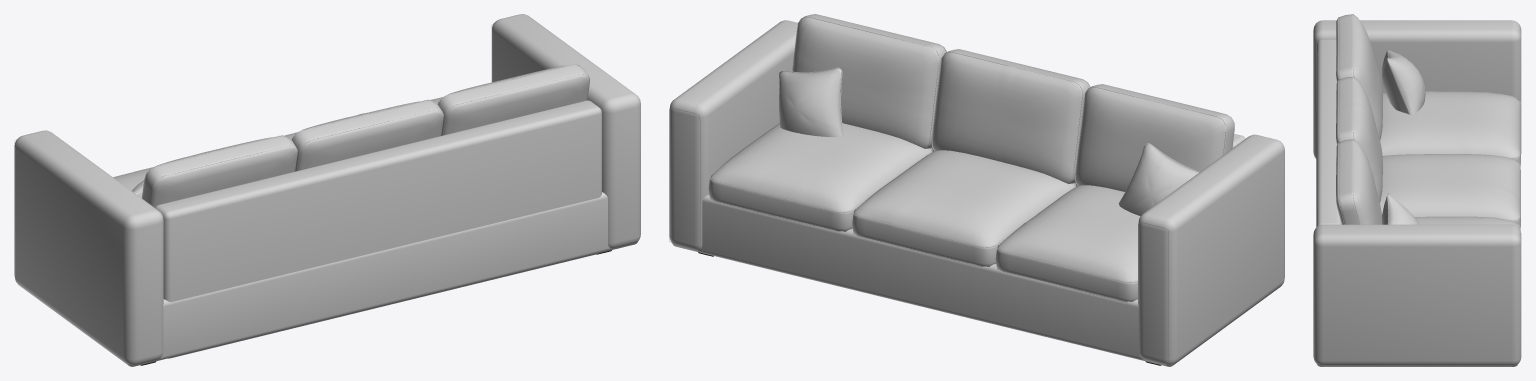
The model's file is sofa-classic-three.glb.
The picture shows the model from 3 angles, left to right: view 1: azimuth 30°, elevation 25°; view 2: azimuth 150°, elevation 25°; view 3: azimuth 270°, elevation 25°; orthographic projection. The views are drawn at different scales.
Visible parts, largest first — view 1: Structural back, Upholstered arm, Upholstered base, Upholstered arm.001, Back pillow 1, Back pillow 2, Back pillow 3; view 2: Upholstered arm, Upholstered base, Seat 2, Back pillow 2, Seat 3, Upholstered arm.001, Back pillow 3, Seat 1, Back pillow 1, Loose scatter pillow.001, Loose scatter pillow; view 3: Upholstered arm.001, Upholstered arm, Seat 2, Seat 1, Structural back, Back pillow 3, Back pillow 1, Back pillow 2, Loose scatter pillow, Seat 3, Loose scatter pillow.001, Upholstered base.
Part boxes in pixels (x1,y1,x2,y2): Structural back: (155, 100, 601, 358); Upholstered arm: (14, 130, 163, 365); Upholstered base: (18, 192, 638, 366); Upholstered arm.001: (492, 14, 640, 248); Back pillow 1: (142, 135, 297, 207); Back pillow 2: (292, 100, 443, 171); Back pillow 3: (438, 64, 589, 135); Upholstered arm: (1138, 134, 1284, 365); Upholstered base: (672, 194, 1280, 366); Seat 2: (852, 150, 1076, 266); Back pillow 2: (932, 49, 1090, 183); Seat 3: (708, 123, 932, 231); Upholstered arm.001: (669, 20, 797, 250); Back pillow 3: (792, 14, 946, 148); Seat 1: (995, 185, 1140, 302); Back pillow 1: (1075, 84, 1234, 191); Loose scatter pillow.001: (779, 68, 843, 137); Loose scatter pillow: (1119, 143, 1199, 215); Upholstered arm.001: (1313, 224, 1521, 366); Upholstered arm: (1313, 20, 1521, 158); Seat 2: (1380, 154, 1520, 228); Seat 1: (1380, 91, 1520, 166); Structural back: (1317, 39, 1341, 226); Back pillow 3: (1336, 139, 1382, 224); Back pillow 1: (1336, 14, 1382, 140); Back pillow 2: (1336, 77, 1382, 202); Loose scatter pillow: (1382, 49, 1425, 114); Seat 3: (1415, 216, 1520, 230); Loose scatter pillow.001: (1382, 194, 1419, 224); Upholstered base: (1316, 114, 1517, 366).
Bounding box in the file's own units: 2.39 × 0.8179 × 0.9505.
2 materials, 1 textured.
